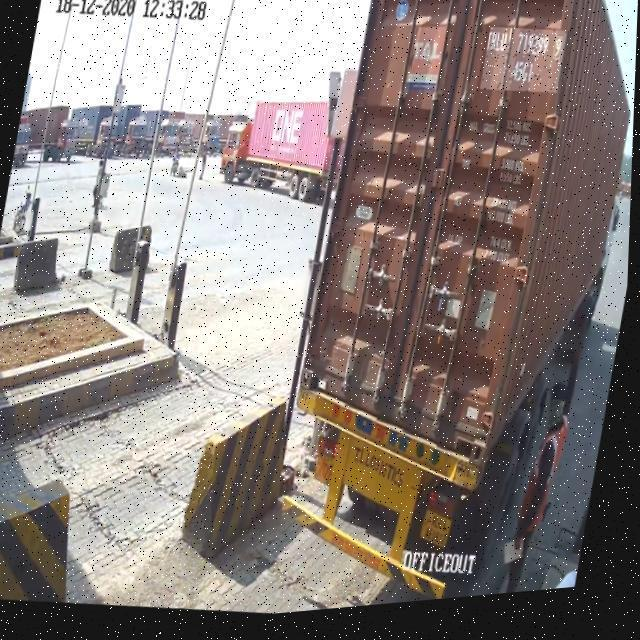container_number_h: (481, 31, 571, 109)
